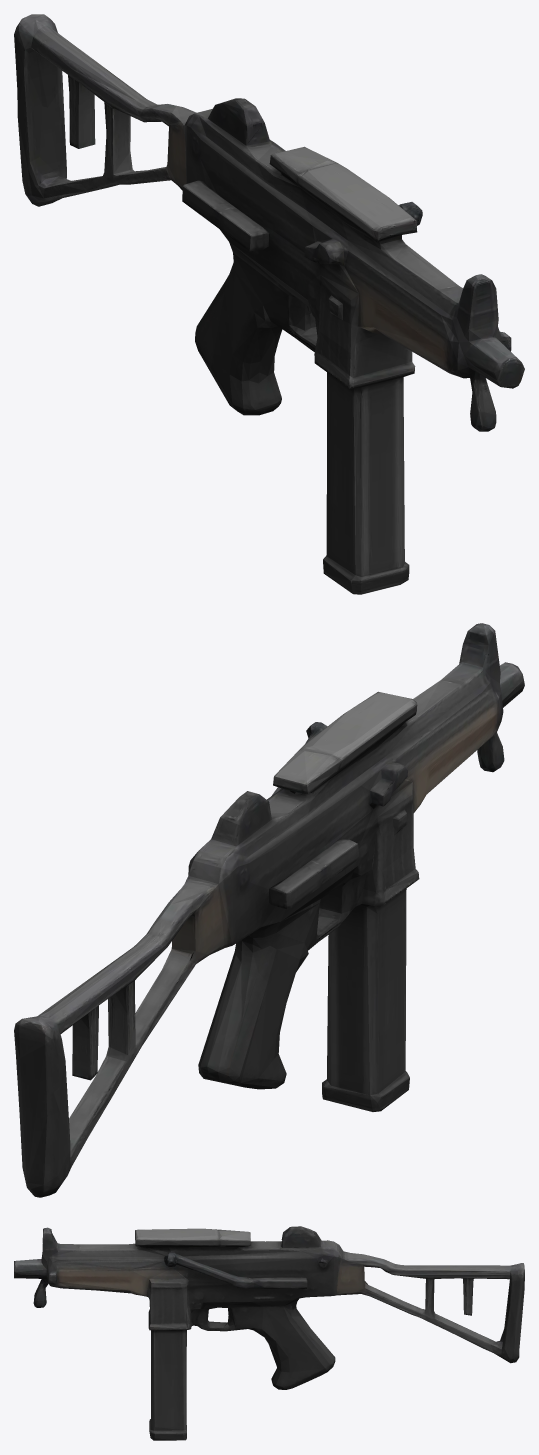
Rendered from black_mp5k.glb.
3 views of the same model, one above another, from view 1: azimuth 30°, elevation 25°; view 2: azimuth 150°, elevation 25°; view 3: azimuth 270°, elevation 25° (orthographic). The views are drawn at different scales.
Visible parts, largest first — view 1: geometry_0; view 2: geometry_0; view 3: geometry_0.
Boxes of the visible parts, left/top/right/bottom form: geometry_0: left=14, top=14, right=524, bottom=594; geometry_0: left=14, top=623, right=524, bottom=1197; geometry_0: left=14, top=1226, right=524, bottom=1440.
Bounding box in the file's own units: 0.1339 × 0.4433 × 0.999.
Materials: 1 (1 with a texture image).
